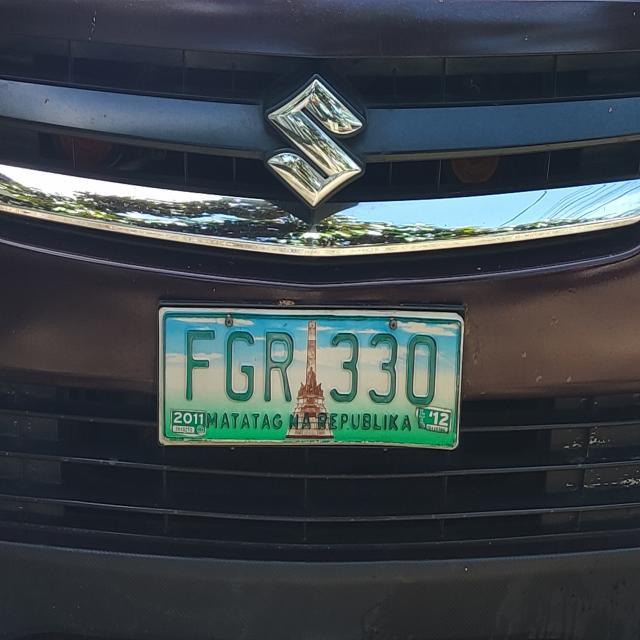plate: (157, 303, 466, 451)
